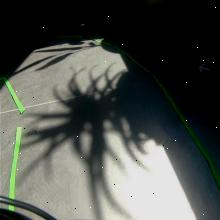left: (194, 57, 213, 79)
